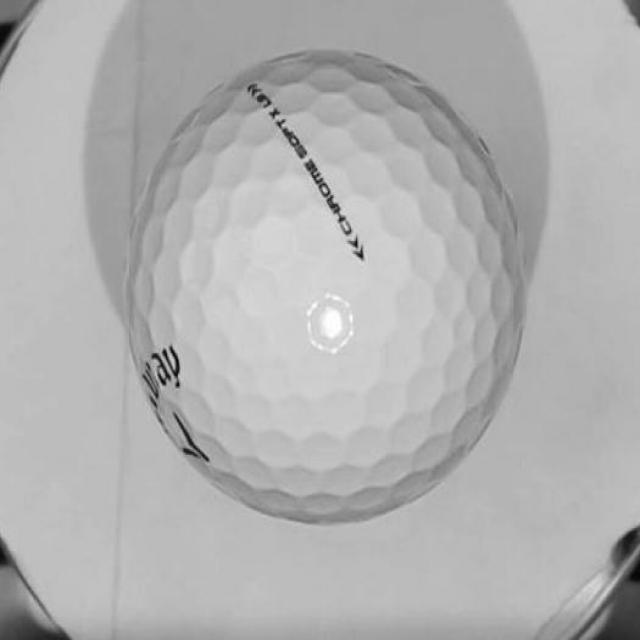golfball: (125, 47, 526, 524), (245, 84, 329, 202)
